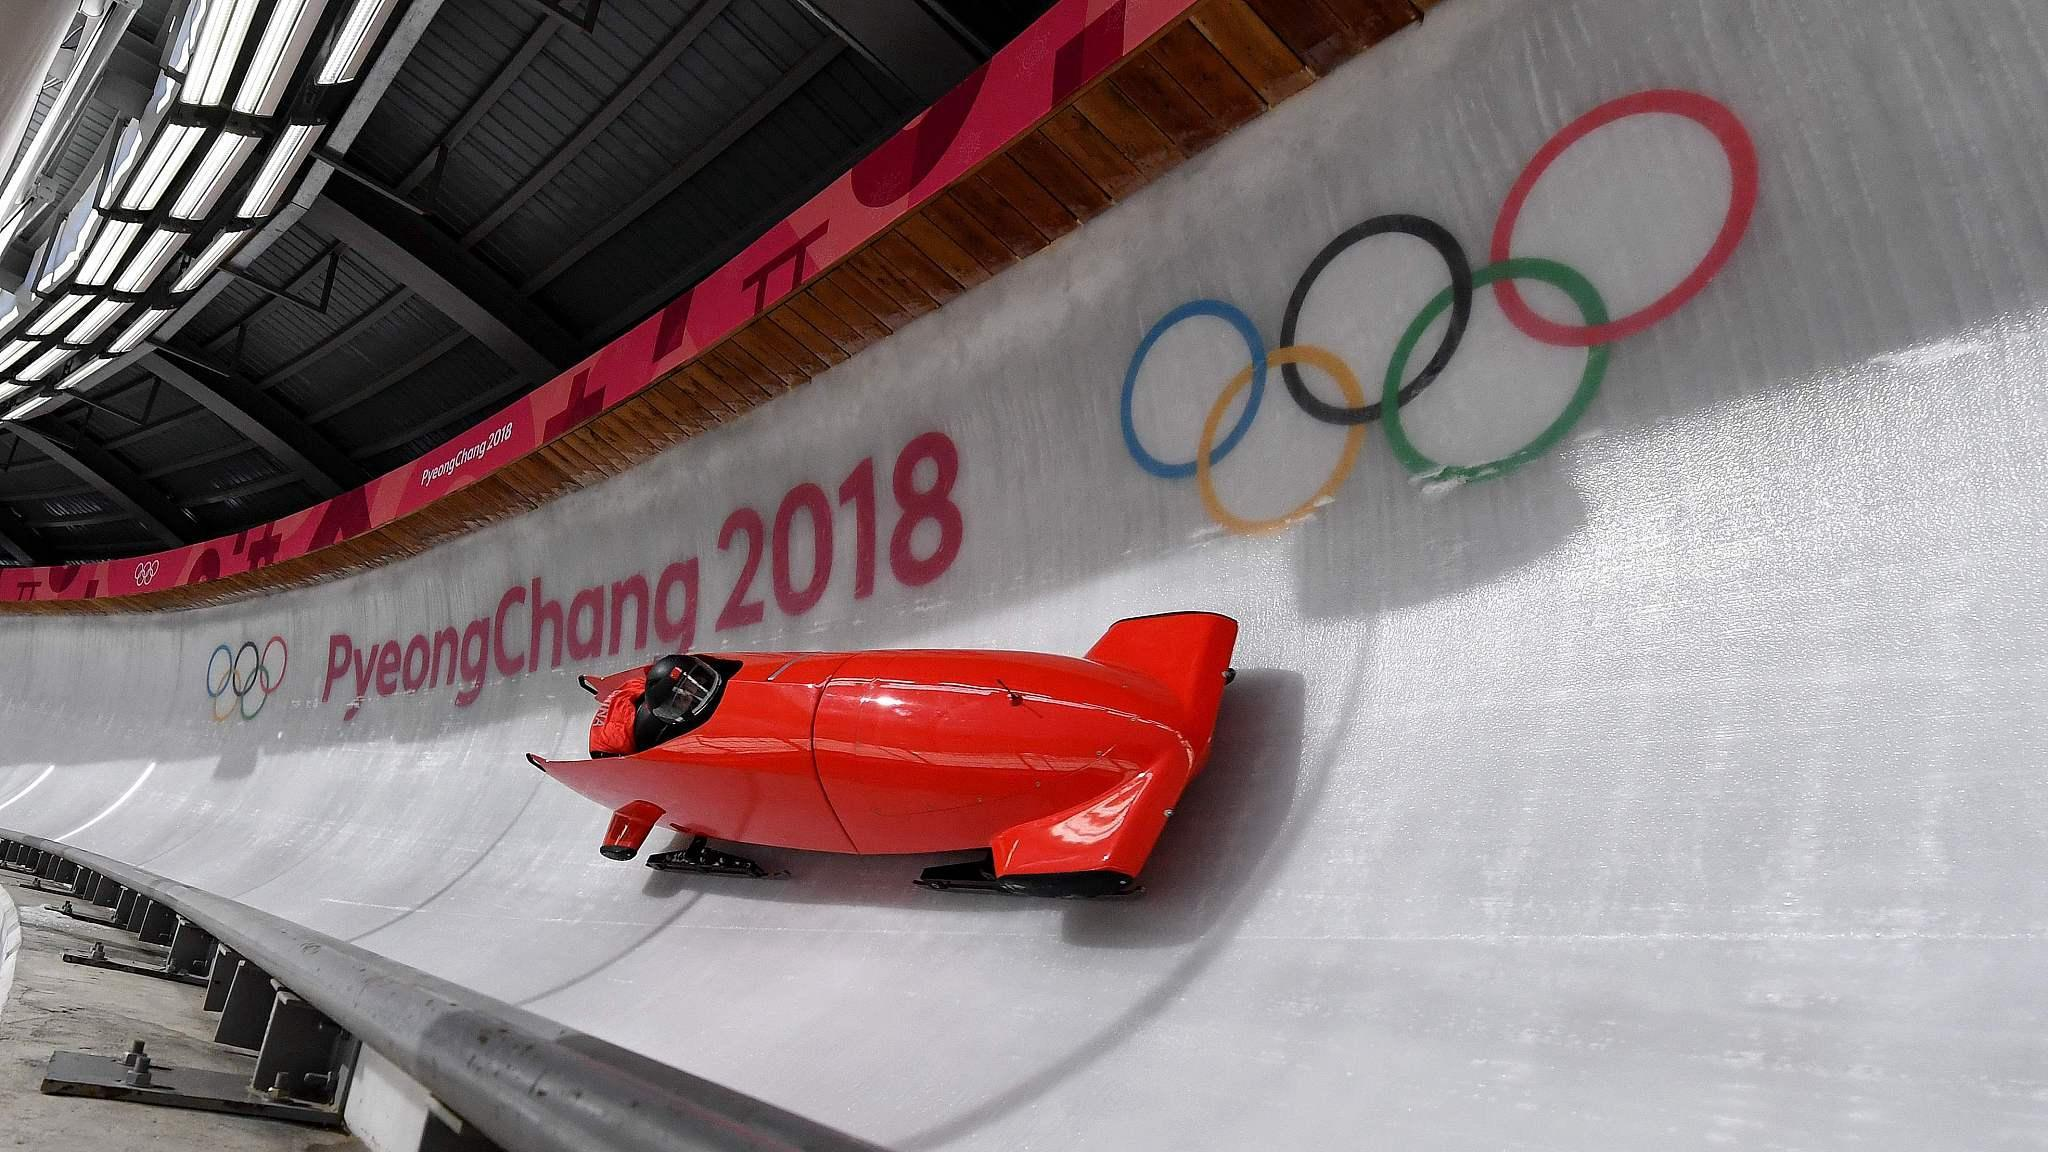Bobsleigh: (539, 610, 1239, 890)
